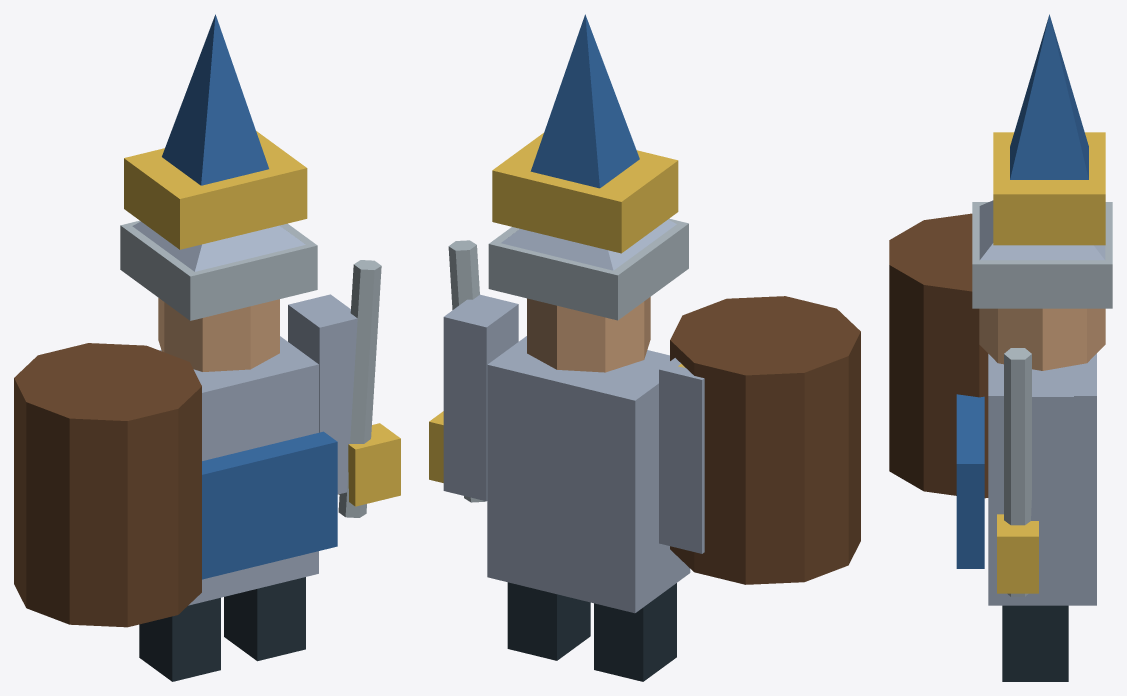
The model's file is infantry.obj.
The picture shows the model from 3 angles, left to right: view 1: azimuth 30°, elevation 25°; view 2: azimuth 150°, elevation 25°; view 3: azimuth 270°, elevation 25°; orthographic projection.
Visible parts, largest first — view 1: infantry; view 2: infantry; view 3: infantry.
Boxes of the visible parts, x1,y1,x2,y2 form: infantry: (14,14,400,681); infantry: (429,14,860,681); infantry: (889,14,1112,681).
Bounding box in the file's own units: 1.26 × 2 × 0.6368.
